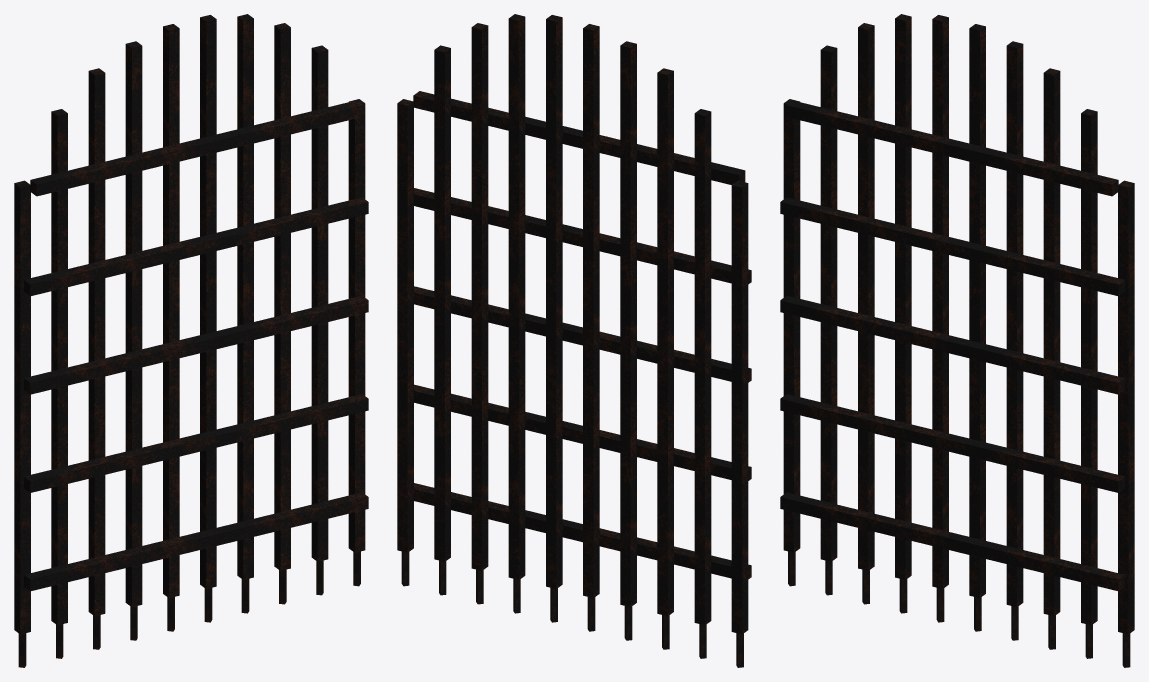
File: fort_portcullis.glb
3 views of the same model, side by side, from view 1: azimuth 30°, elevation 25°; view 2: azimuth 150°, elevation 25°; view 3: azimuth 330°, elevation 25° (orthographic).
Visible parts, largest first — view 1: Portcullis; view 2: Portcullis; view 3: Portcullis.
Boxes of the visible parts, x1=… form: Portcullis: x1=14, y1=14, x2=368, y2=667; Portcullis: x1=397, y1=14, x2=751, y2=667; Portcullis: x1=780, y1=14, x2=1134, y2=667.
Size of the model in its own units: 1.84 by 3.06 by 0.118.
1 material, 1 textured.
